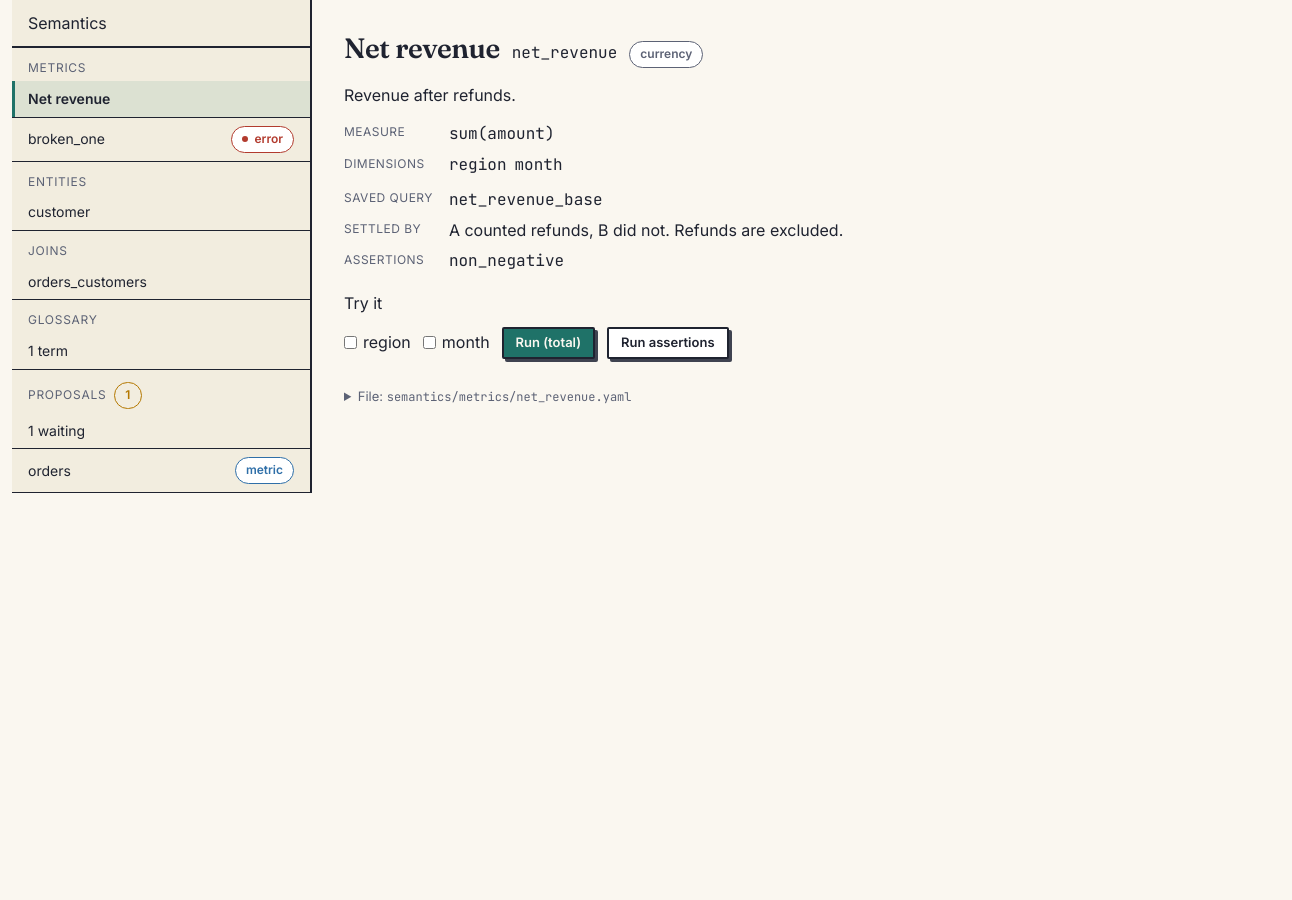
SemanticsView › Try it runs the metric by the ticked dimensions and shows the truncation notice
Click the checkbox with test id "try-dim-region". click: (350, 342)
box: [344,336,357,349]
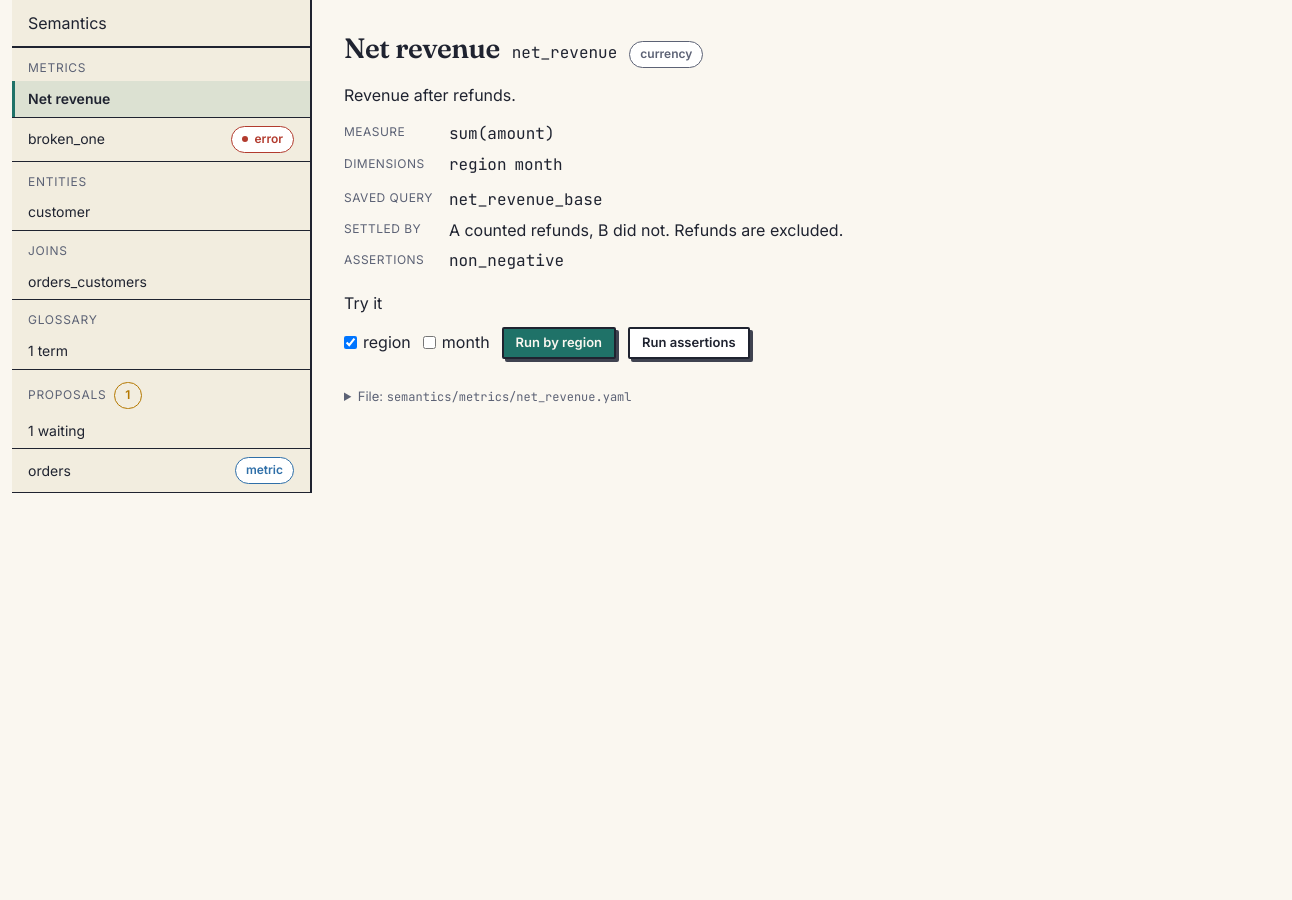
Click the button with test id "try-run". click: (559, 342)
box: [502,326,616,358]
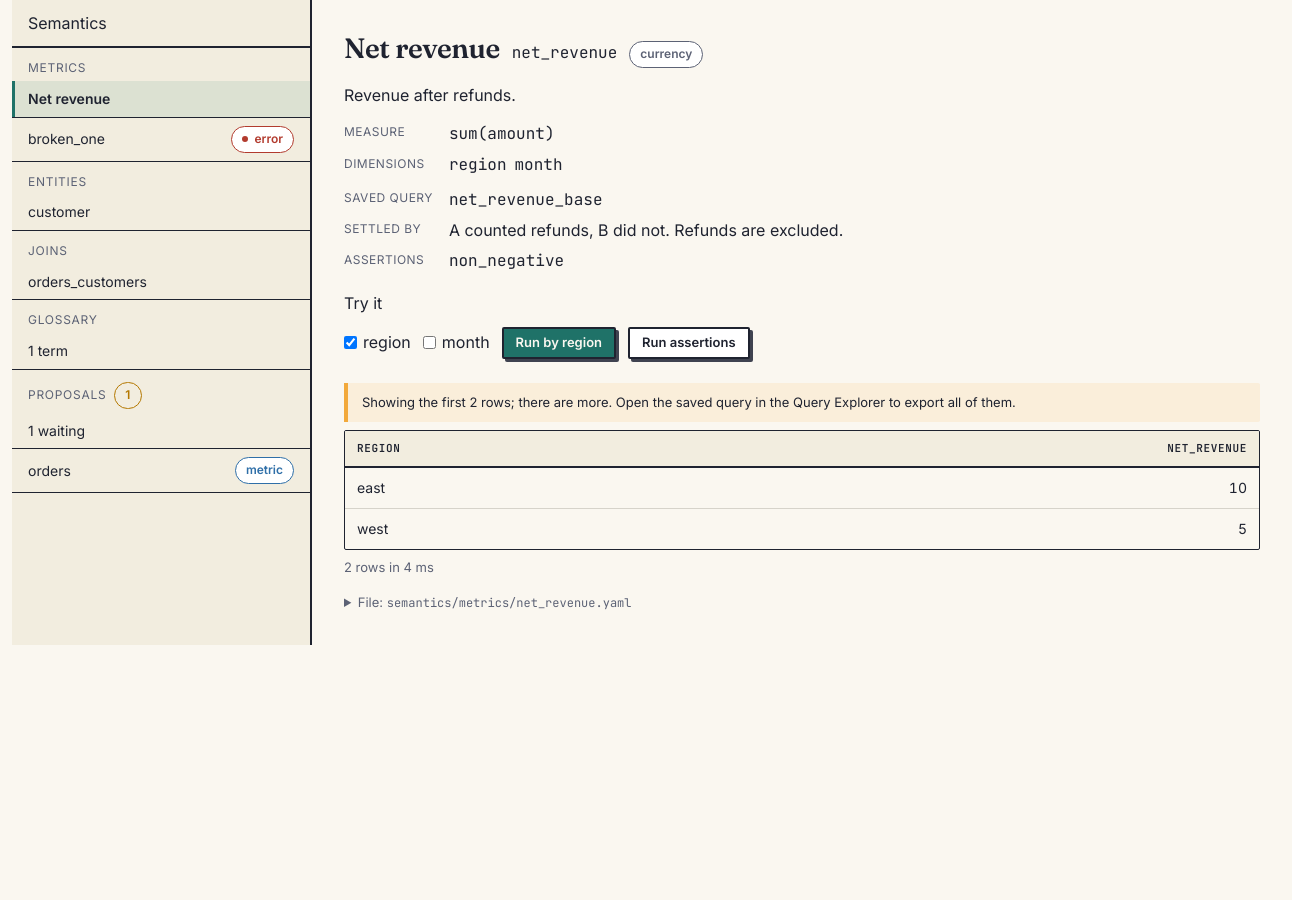
Expected: the element with test id "result-grid" shows "east", [357,479,385,496]
Expected: the message with test id "result-truncated" shows "Showing the first 2 rows", [362,394,1016,410]
